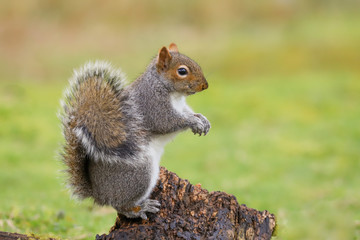squirrel: (60, 41, 212, 221)
